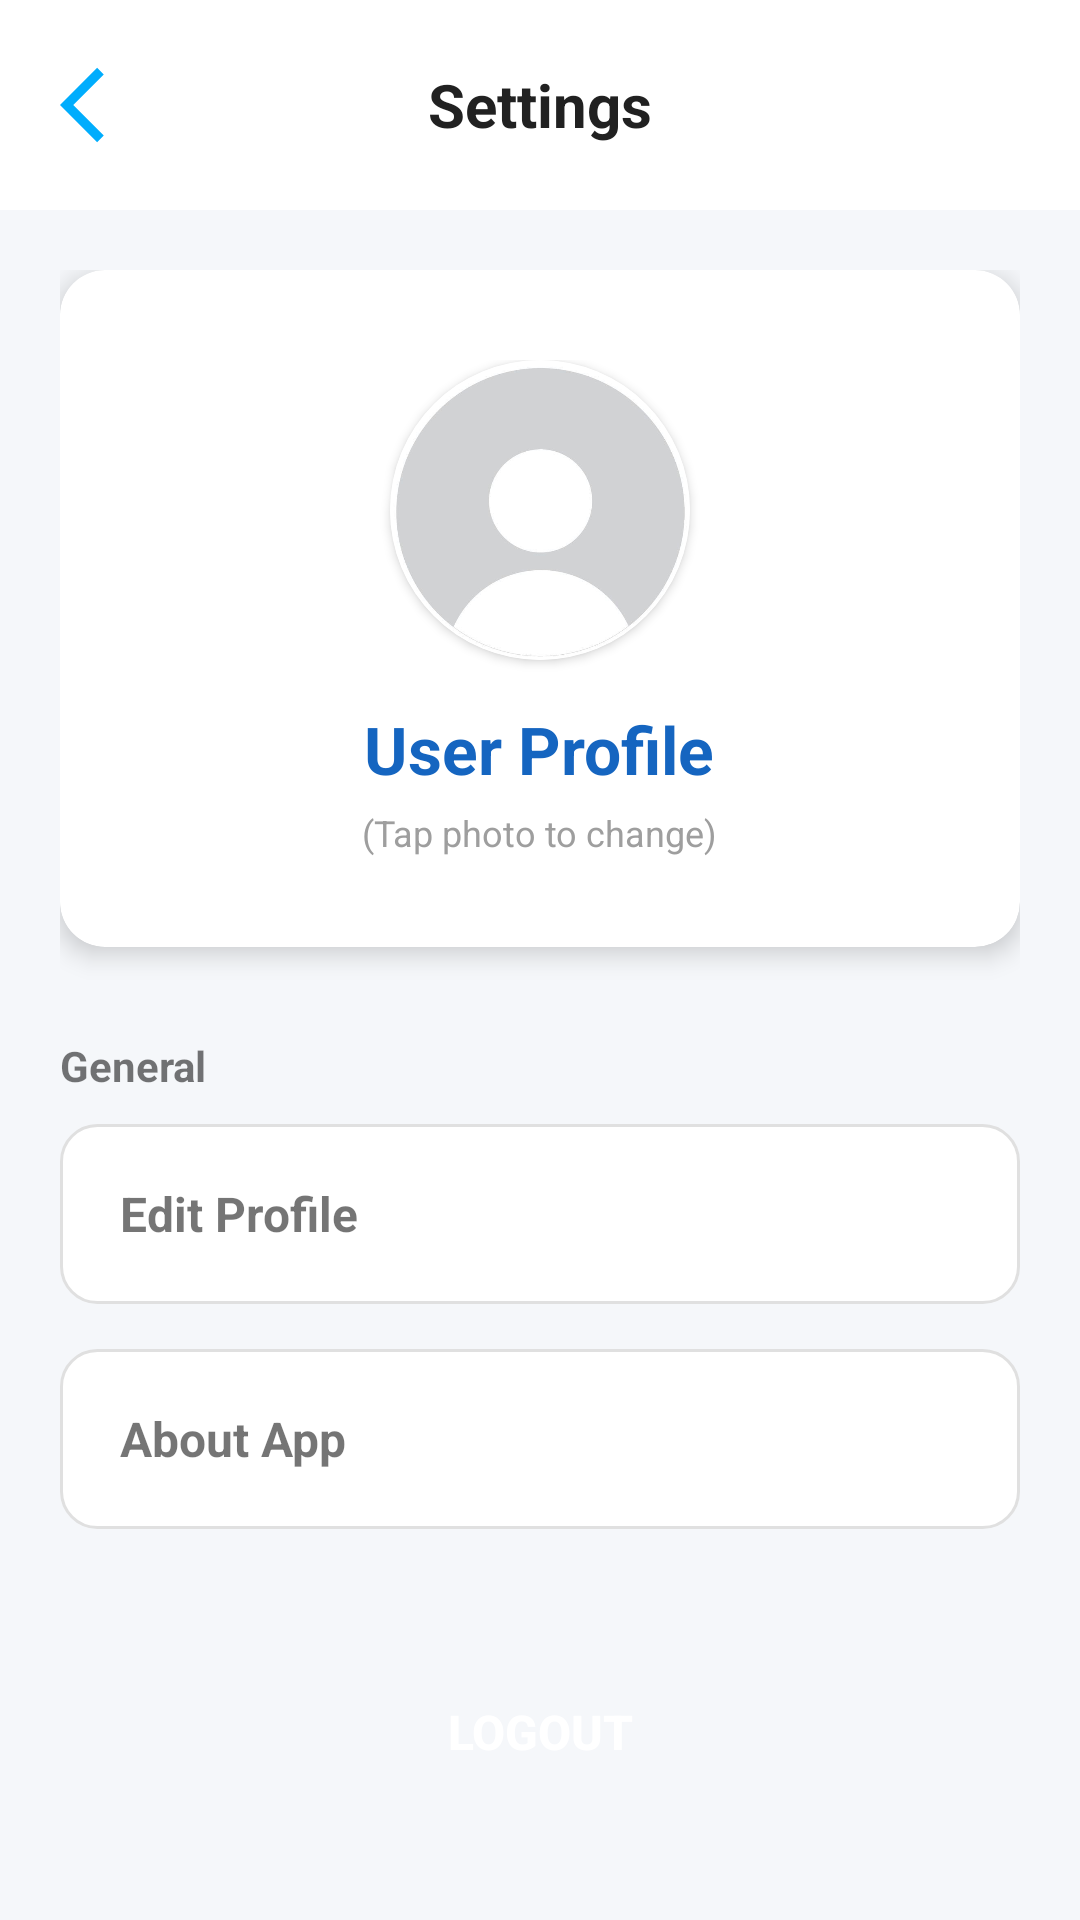

Icons on this 1080 × 1920 Android screen, each with the point to tap as point (x, y):
back: point (82, 105)
